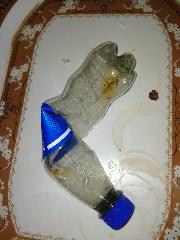plastic: (41, 40, 138, 230)
